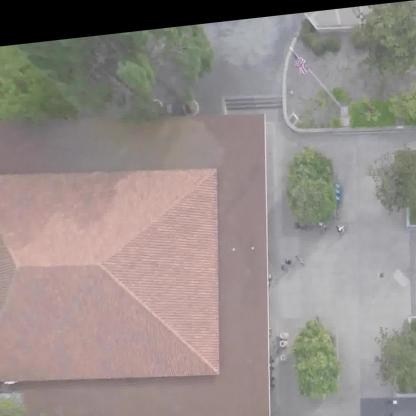Pedestrian: (331, 220, 352, 238), (278, 264, 292, 279), (294, 252, 304, 268), (282, 256, 293, 268), (320, 218, 328, 233)
